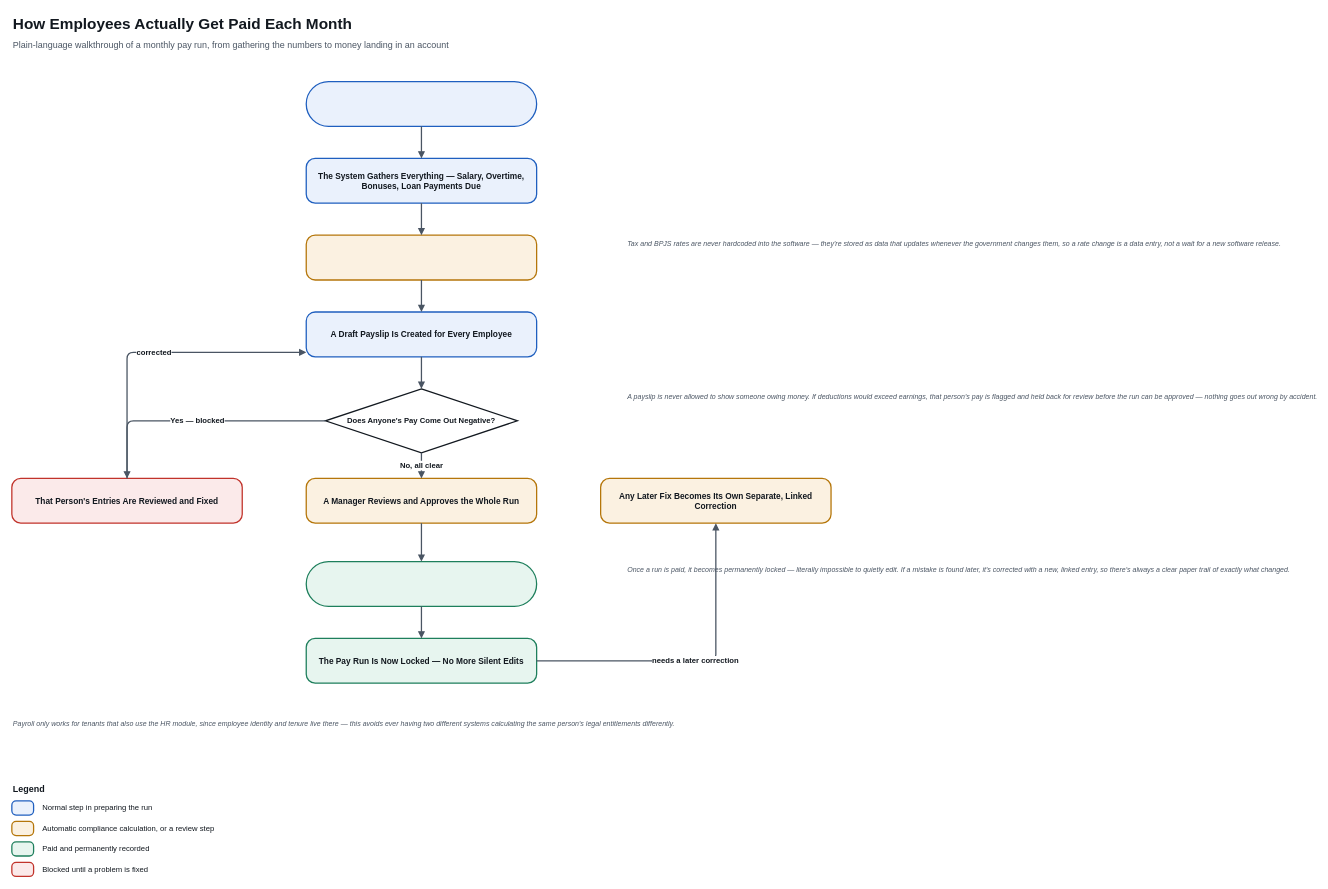
This 1328x889 diagram has some shape labels left out. Each missing label, with the centre of its shape:
"Income Tax and BPJS Contributions Are Calculated Automatically, Per Employee" belongs at point 421,257.
"Payment Is Sent to Each Employee's Bank Account" belongs at point 421,584.
"The Pay Period Closes (time to run payroll)" belongs at point 421,104.
